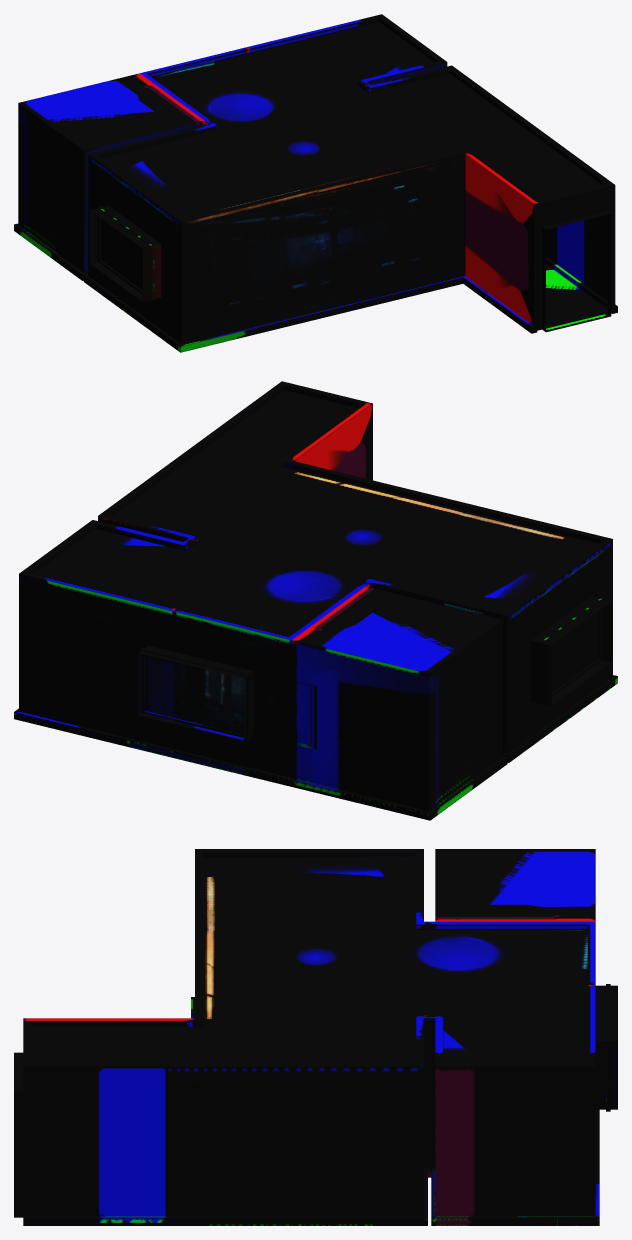
The model's file is roombake_1788683313685.glb.
3 views of the same model, one above another, from view 1: azimuth 30°, elevation 25°; view 2: azimuth 150°, elevation 25°; view 3: azimuth 270°, elevation 25° (orthographic). The views are drawn at different scales.
Parts seen in each view (by area): view 1: roombake_1788682839305.glb; view 2: roombake_1788682839305.glb; view 3: roombake_1788682839305.glb.
Part boxes in pixels (x1=…): roombake_1788682839305.glb: x1=14, y1=14, x2=617, y2=352; roombake_1788682839305.glb: x1=14, y1=381, x2=617, y2=820; roombake_1788682839305.glb: x1=14, y1=849, x2=617, y2=1225.
Size of the model in its own units: 7.96 by 2.54 by 8.82.
Materials: 1 (1 with a texture image).
